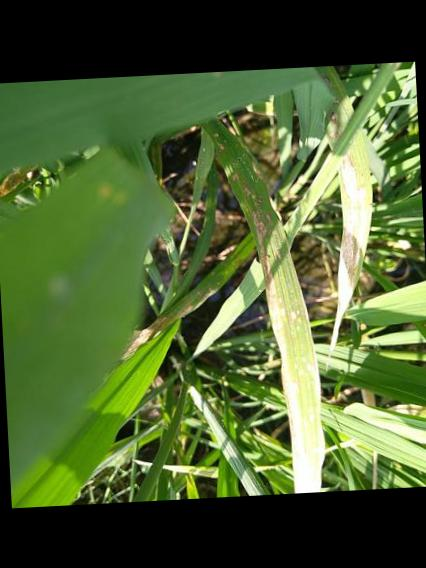Leaf Streak: (119, 117, 325, 493), (329, 128, 371, 347), (308, 65, 344, 123)
